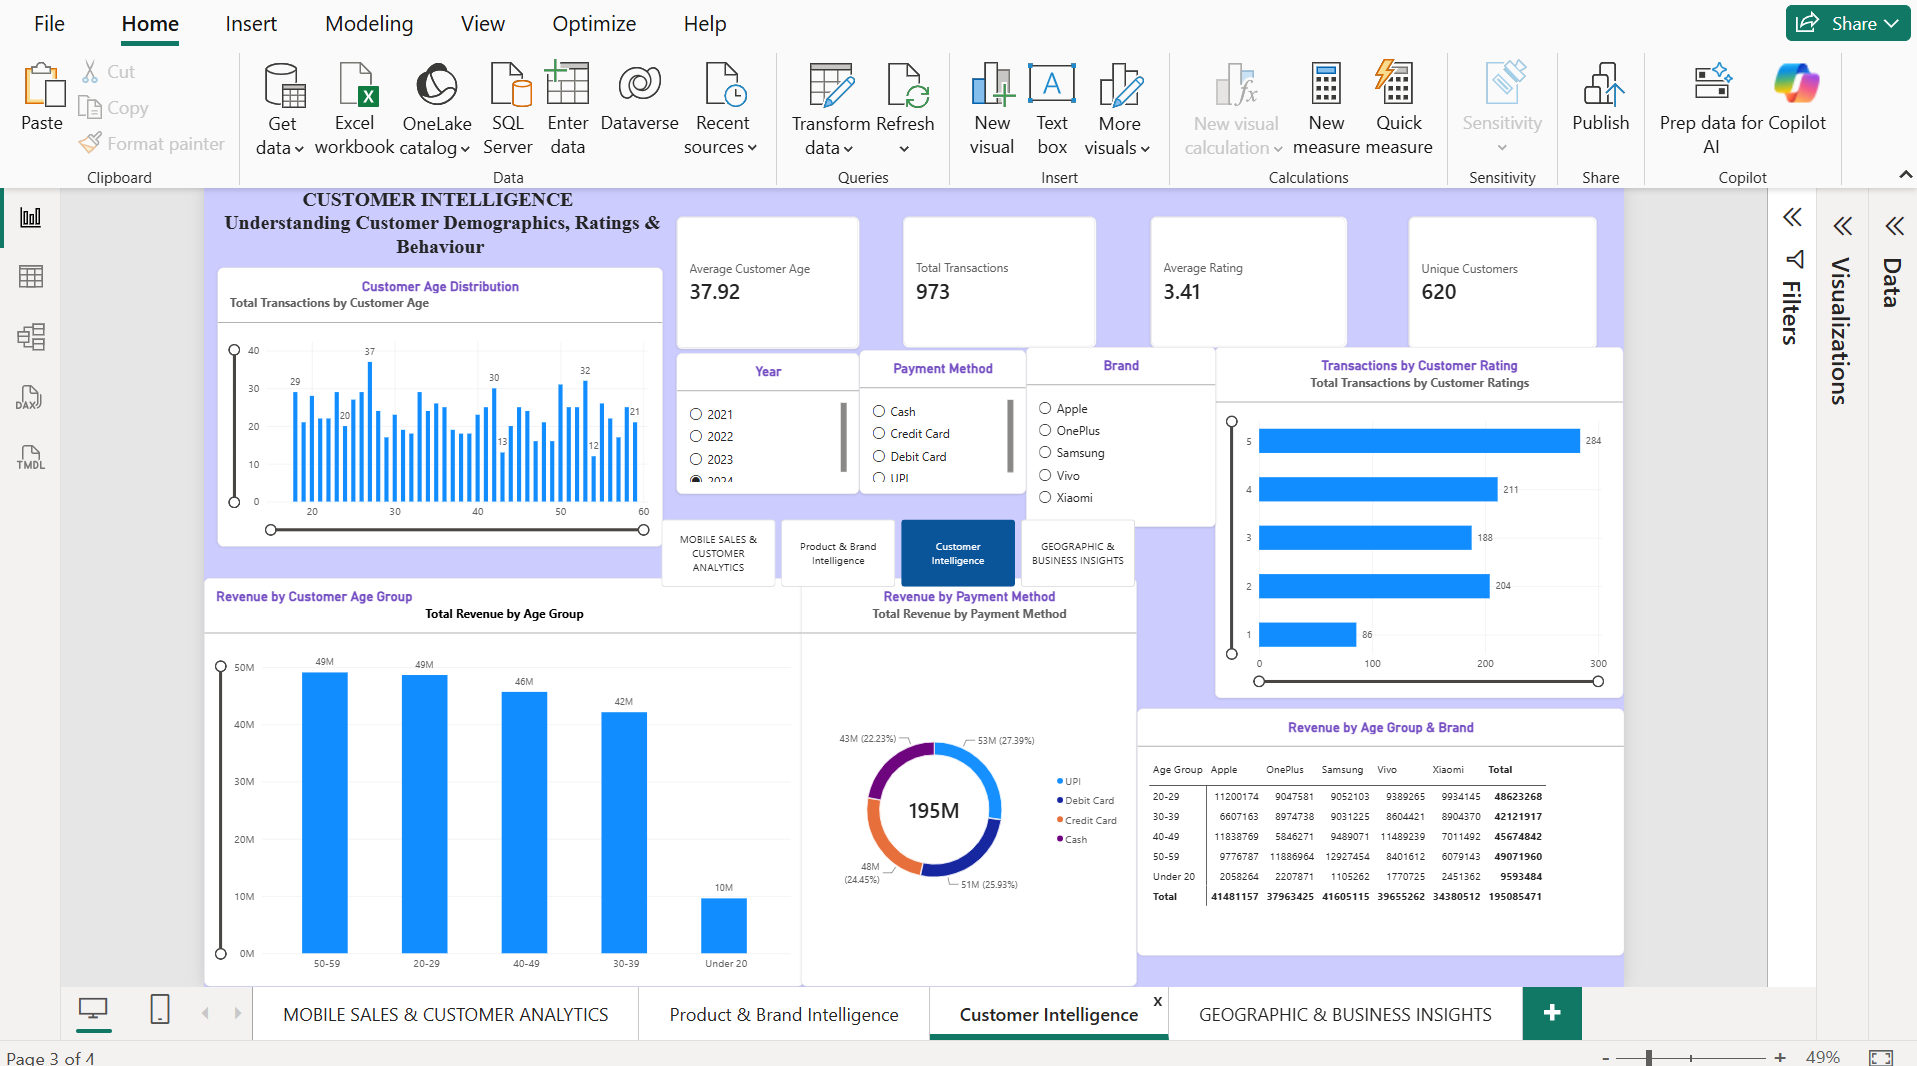

Layout of this report page (visuals, bound fields, positions):
{"tool":"powerbi","page":{"name":"Customer Intelligence","canvas":[1920,1080],"ordinal":2},"visuals":[{"type":"cardVisual","fields":{"Data":["Sheet1.Unique Customers"]},"box":[1628.5,38.6,254.4,179.4],"z":0},{"type":"cardVisual","fields":{"Data":["Sheet1.Average Rating"]},"box":[1278.7,38.6,265.7,177.2],"z":1000},{"type":"cardVisual","fields":{"Data":["Sheet1.Total Transactions"]},"box":[944.9,38.6,261.2,177.2],"z":2000},{"type":"cardVisual","fields":{"Data":["DateTable.Average Customer Age"]},"box":[638.2,38.6,247.6,179.4],"z":3000},{"type":"clusteredColumnChart","title":"Customer Age Distribution","fields":{"Category":["Sheet1.Customer Age"],"Y":["Sheet1.Total Transactions"]},"box":[18.2,106.8,601.9,377],"z":4000},{"type":"clusteredColumnChart","title":"Revenue by Customer Age Group","fields":{"Category":["Sheet1.Age Group"],"Y":["Sheet1.Total Revenue"]},"box":[0,526.9,810.9,551.9],"z":5000},{"type":"donutChart","title":"Revenue by Payment Method","fields":{"Category":["Sheet1.Payment Method"],"Y":["Sheet1.Total Revenue"]},"box":[806.3,526.9,454.3,551.9],"z":6000},{"type":"clusteredBarChart","title":"Transactions by Customer Rating","fields":{"Category":["Sheet1.Customer Ratings"],"Y":["Sheet1.Total Transactions"]},"box":[1367.3,215.8,551.9,474.7],"z":7000},{"type":"pivotTable","title":"Revenue by Age Group & Brand","fields":{"Columns":["Sheet1.Brand"],"Rows":["Sheet1.Age Group"],"Values":["Sheet1.Total Revenue"]},"box":[1260.6,704.1,658.7,333.9],"z":8000},{"type":"listSlicer","fields":{"Values":["Sheet1.Year"]},"box":[638.7,223,247.4,190.6],"z":9000},{"type":"listSlicer","fields":{"Values":["Sheet1.Brand"]},"box":[1110.7,215.8,256.7,243],"z":10000},{"type":"listSlicer","fields":{"Values":["Sheet1.Payment Method"]},"box":[886,219,225.1,194.6],"z":11000},{"type":"textbox","box":[0,0,638.2,129.5],"z":12000},{"type":"pageNavigator","box":[618.4,448.1,642.7,91.2],"z":12001}]}

Visuals, with their boxes on the page's 1920x1080 design canvas (x1, y1, x2, y2). These are canvas units, not pixel positions in the 1917x1066 screenshot, which may show the page scaled, cropped or inside an application window:
cardVisual - Sheet1.Unique Customers: 1628:39:1883:218
cardVisual - Sheet1.Average Rating: 1279:39:1544:216
cardVisual - Sheet1.Total Transactions: 945:39:1206:216
cardVisual - DateTable.Average Customer Age: 638:39:886:218
"Customer Age Distribution" clusteredColumnChart: 18:107:620:484
"Revenue by Customer Age Group" clusteredColumnChart: 0:527:811:1079
"Revenue by Payment Method" donutChart: 806:527:1261:1079
"Transactions by Customer Rating" clusteredBarChart: 1367:216:1919:690
"Revenue by Age Group & Brand" pivotTable: 1261:704:1919:1038
listSlicer - Sheet1.Year: 639:223:886:414
listSlicer - Sheet1.Brand: 1111:216:1367:459
listSlicer - Sheet1.Payment Method: 886:219:1111:414
textbox: 0:0:638:130
pageNavigator: 618:448:1261:539
